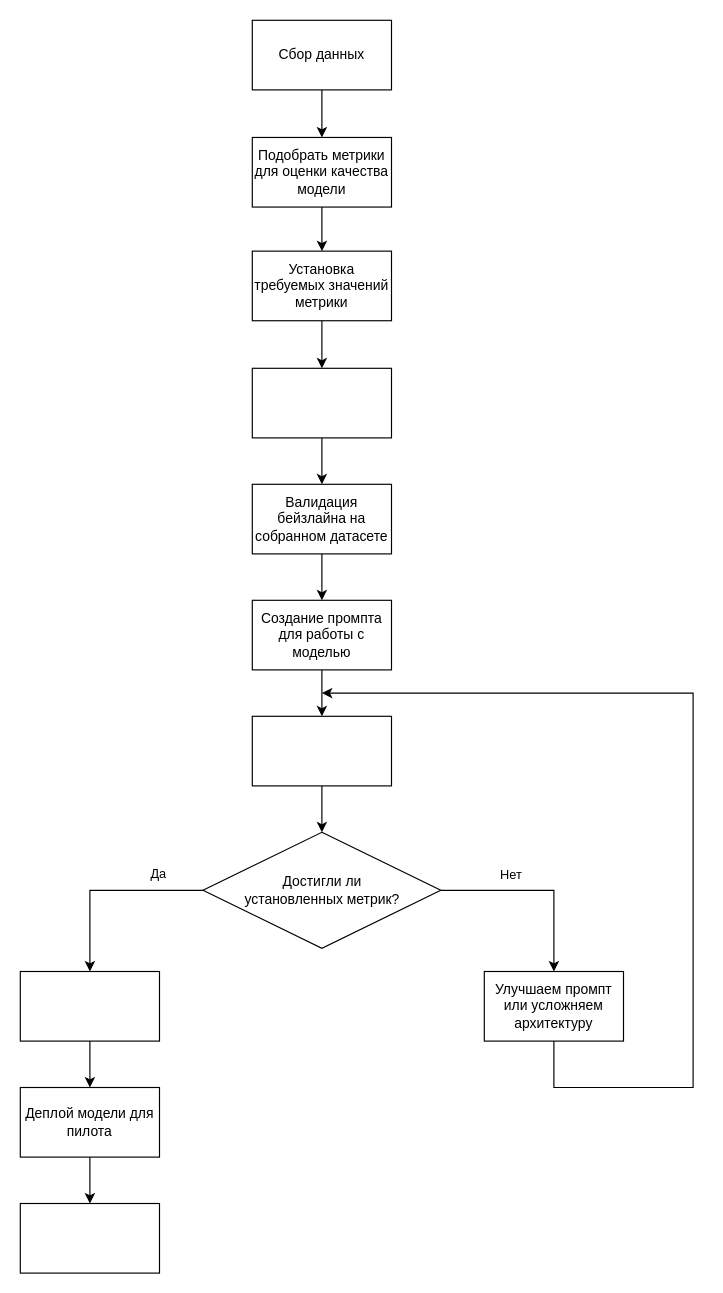
This 723x1293 diagram has some shape labels left out. Each missing label, with the box of its shape:
Оценка бизнес метрик в рамках пилота: (19, 1202, 160, 1273)
Оценка качества работы текущей модели: (251, 715, 392, 786)
Создание скрипта для работы с бейзлайном: (251, 367, 392, 438)
Создание телеграм интерфейса: (19, 970, 160, 1041)
